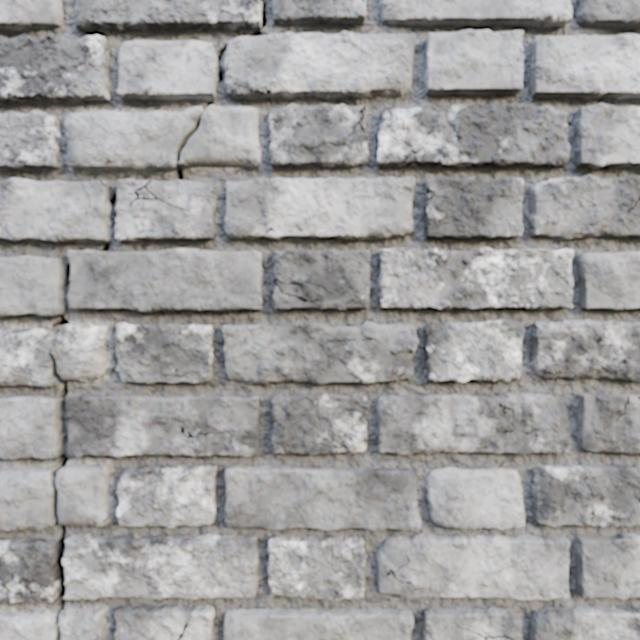broken_brick: (64, 105, 261, 171), (0, 323, 107, 386), (56, 465, 110, 526), (0, 468, 52, 530), (0, 608, 55, 639), (59, 608, 107, 639)
crack: (0, 354, 259, 639), (0, 117, 262, 349), (74, 0, 414, 113), (225, 465, 420, 531), (376, 534, 570, 600), (377, 247, 573, 310), (375, 392, 571, 455), (222, 321, 417, 384), (377, 104, 570, 167), (224, 177, 415, 240), (0, 33, 111, 103), (528, 175, 639, 240), (530, 34, 639, 99), (529, 464, 639, 527), (529, 319, 639, 381), (267, 535, 366, 602), (424, 30, 524, 95), (116, 464, 216, 528), (424, 318, 524, 382), (268, 104, 369, 167), (424, 176, 523, 239), (113, 322, 215, 383), (426, 467, 524, 529), (271, 393, 368, 455), (223, 608, 413, 639), (272, 249, 370, 309), (379, 0, 572, 27), (573, 103, 639, 169), (574, 533, 639, 599), (576, 393, 639, 453), (576, 251, 639, 310), (527, 606, 639, 639), (0, 110, 60, 170), (114, 604, 214, 639), (423, 606, 522, 639), (272, 0, 366, 25), (0, 0, 62, 32), (575, 0, 639, 28)
